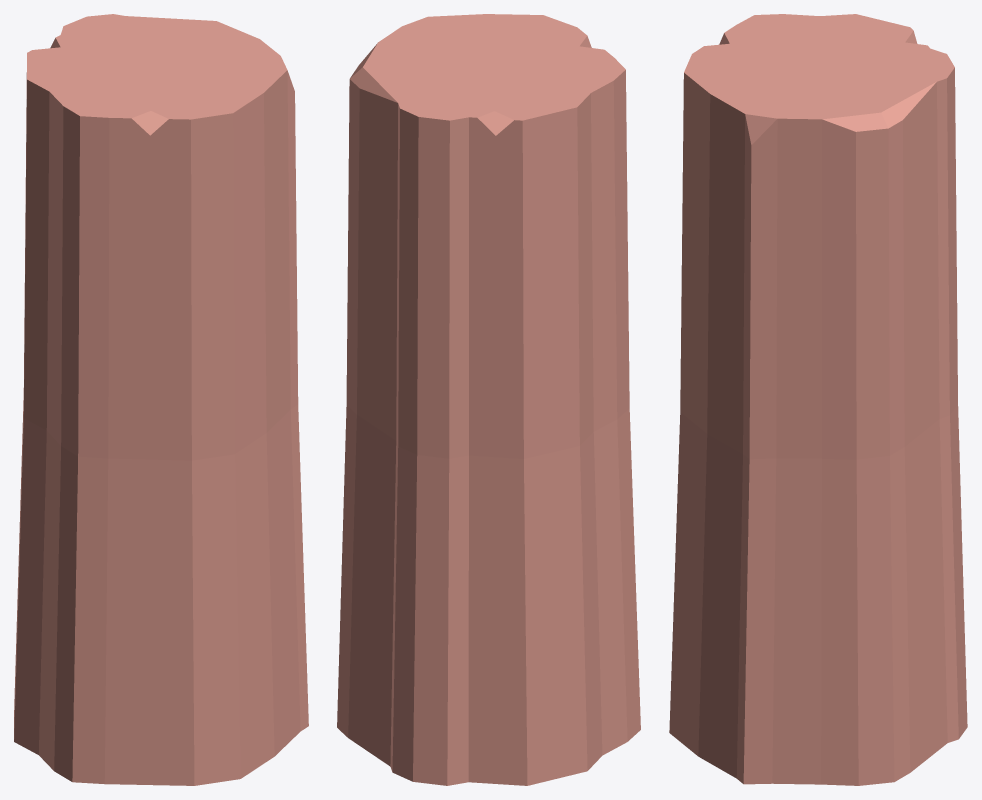
The model's file is SuperGrid_Hexagon_019_Vlad.fbx.
3 renders of one model, left to right at view 1: azimuth 30°, elevation 25°; view 2: azimuth 150°, elevation 25°; view 3: azimuth 270°, elevation 25°, orthographic.
Visible parts, largest first — view 1: SuperGrid_Hexagon.019; view 2: SuperGrid_Hexagon.019; view 3: SuperGrid_Hexagon.019.
Part boxes in pixels (box(x1,y1,x2,y2)): SuperGrid_Hexagon.019: box(14, 14, 308, 785); SuperGrid_Hexagon.019: box(337, 14, 640, 785); SuperGrid_Hexagon.019: box(669, 14, 967, 785).
Size of the model in its own units: 19053 by 50000 by 20464.
